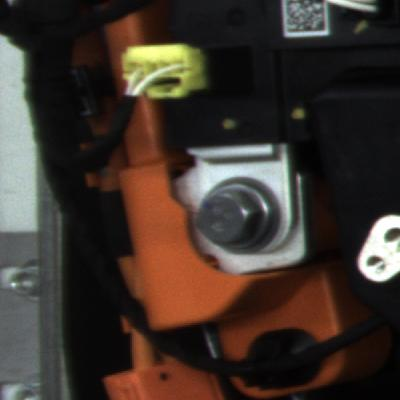nut_b: (180, 165, 286, 264)
